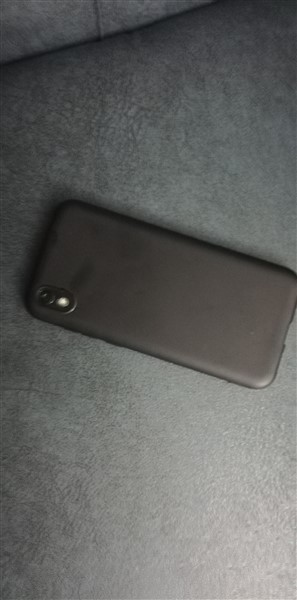telefon: (21, 193, 297, 395)
